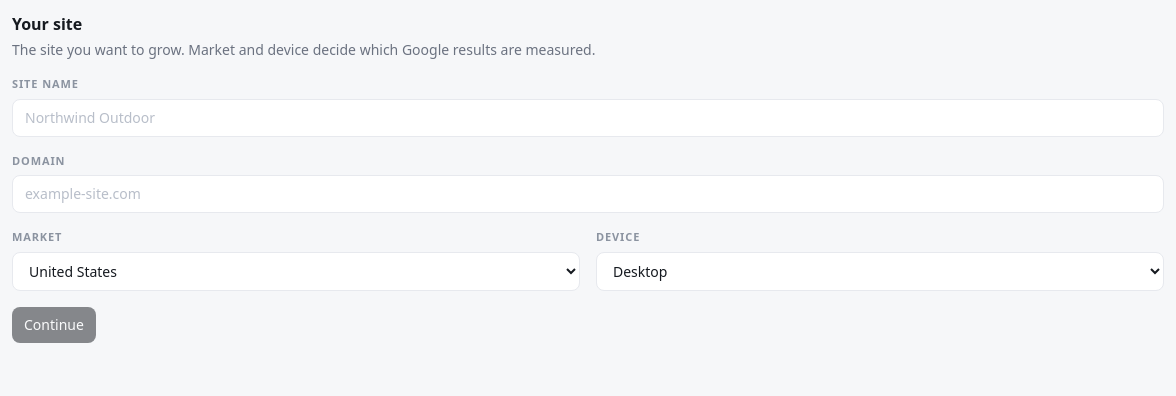
SiteStep › shows the server's validation message
The width and height of the screenshot is (1176, 396).
Type "X" into the field labelled "Site name" at (588, 118), box [12,98,1164,136]
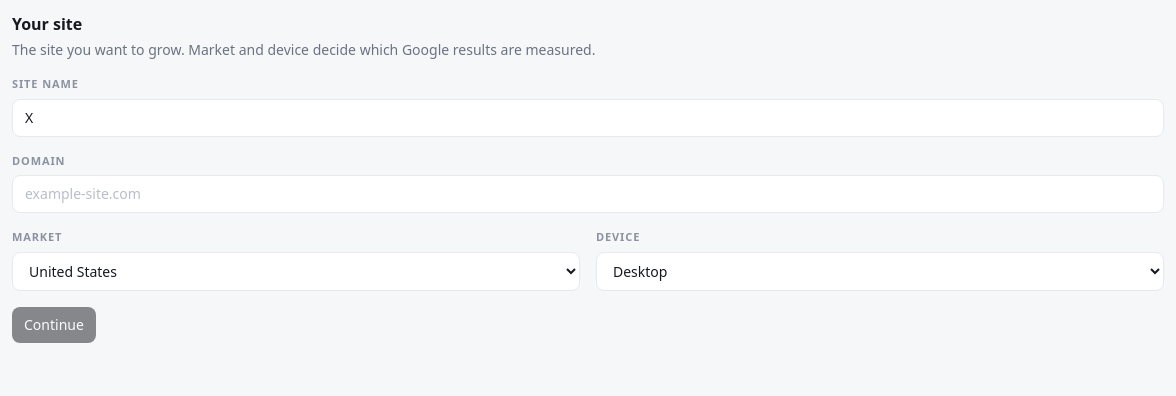
Type "x" into the field labelled "Domain" at (588, 194), box [12,175,1164,213]
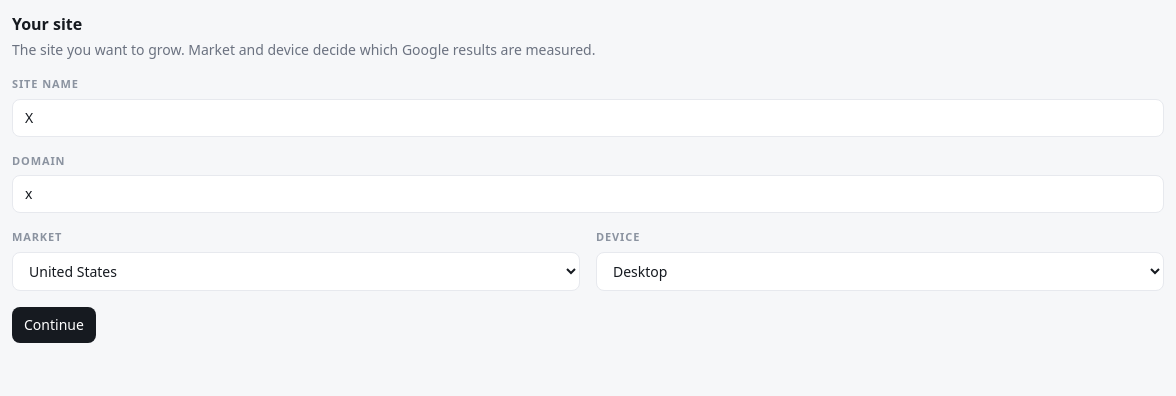
Click the button "Continue" at (54, 324), box [12,306,96,342]
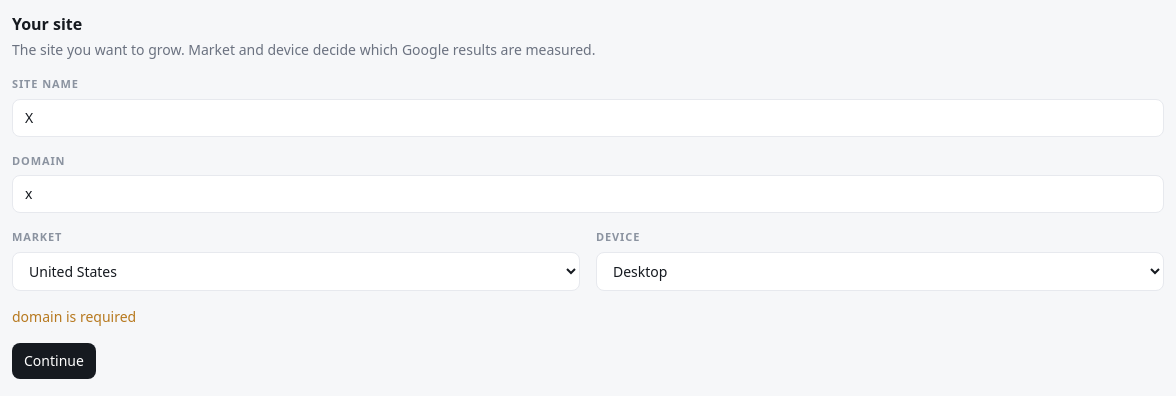
Now the message reads "domain is required", box [12,306,136,326]
